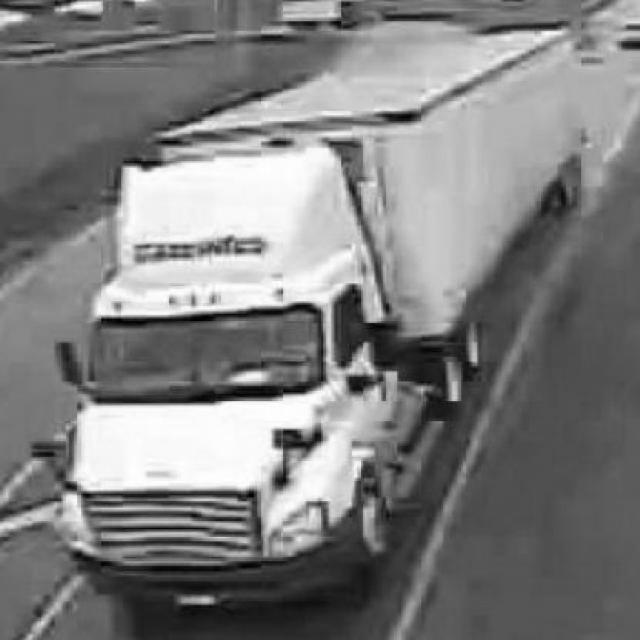Box Truck: (54, 29, 588, 609)
